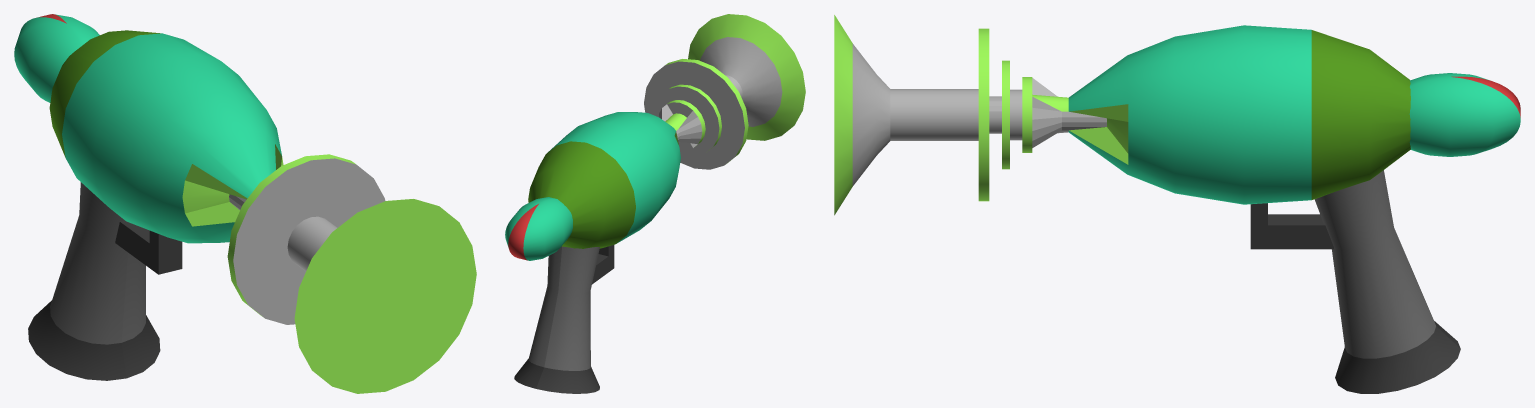
Rendered from gun.fbx.
3 renders of one model, left to right at view 1: azimuth 30°, elevation 25°; view 2: azimuth 150°, elevation 25°; view 3: azimuth 270°, elevation 25°, orthographic. The views are drawn at different scales.
Visible parts, largest first — view 1: gun; view 2: gun; view 3: gun.
Part boxes in pixels (<box>): gun: <box>14,14,476,393</box>; gun: <box>505,14,805,393</box>; gun: <box>834,15,1520,393</box>.
Size of the model in its own units: 32.28 by 62.09 by 109.
